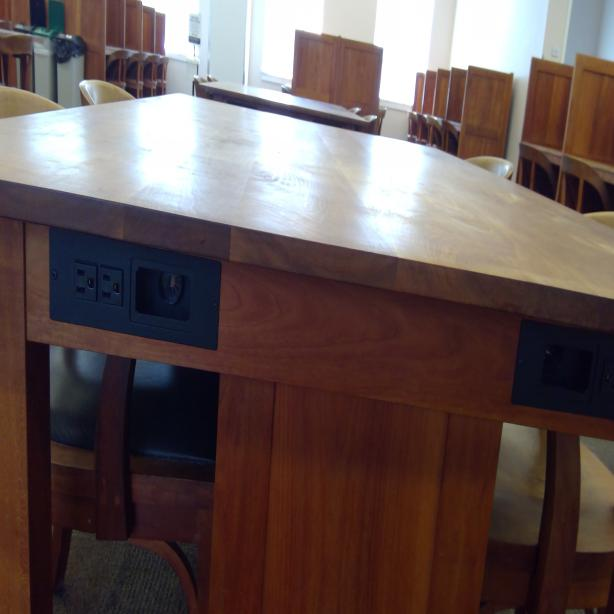typeb: (97, 265, 122, 309), (74, 260, 96, 299)
